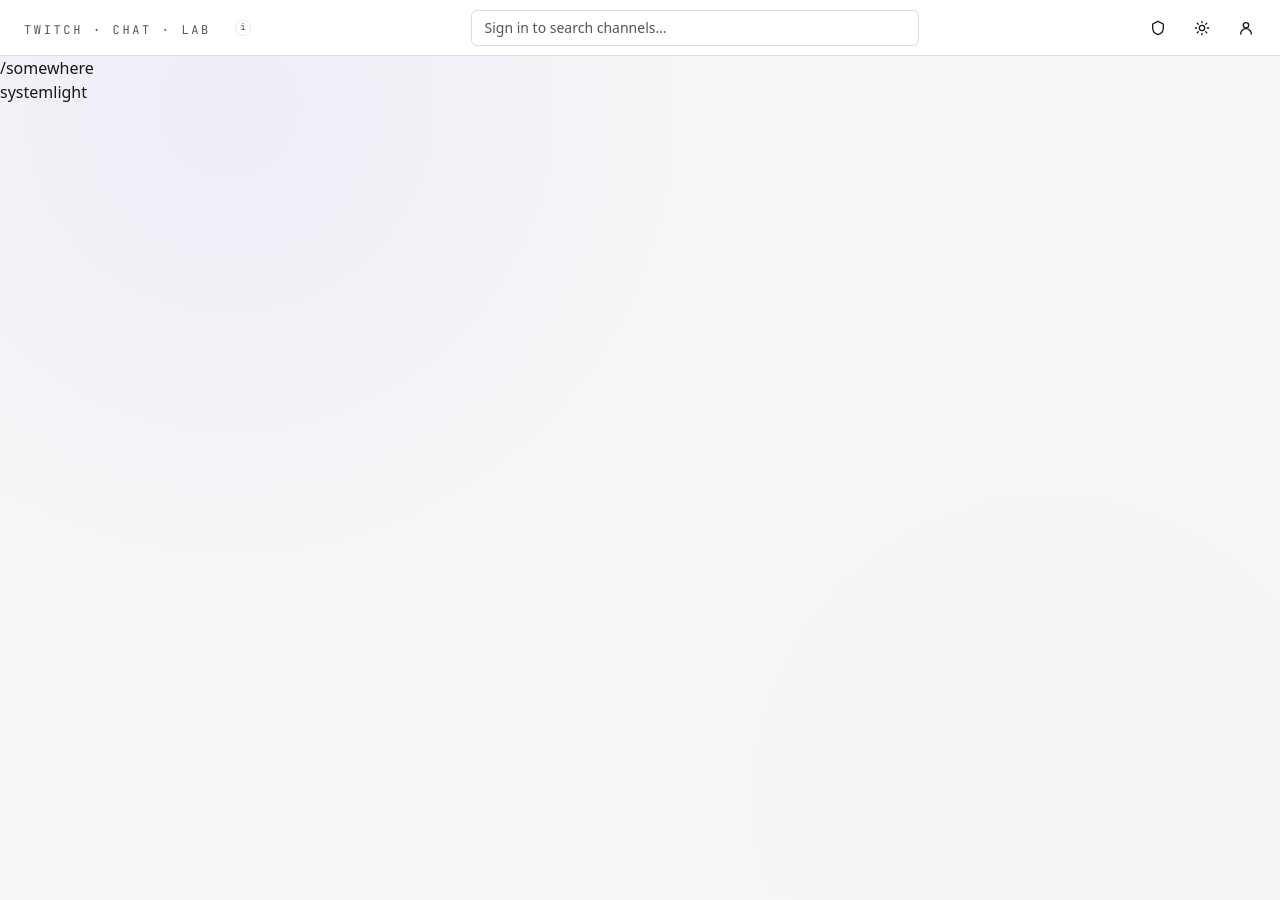
Test case: TopNav › toggle flips between dark and light based on resolved theme
Expected: the text with test id "theme" reads "system", [0,81,53,103]
Expected: the text with test id "resolved" reads "light", [53,81,87,103]
# First click flips to the opposite of resolved — dark.
Click the button named "theme". click: (1202, 28)
box: [1184,10,1220,46]
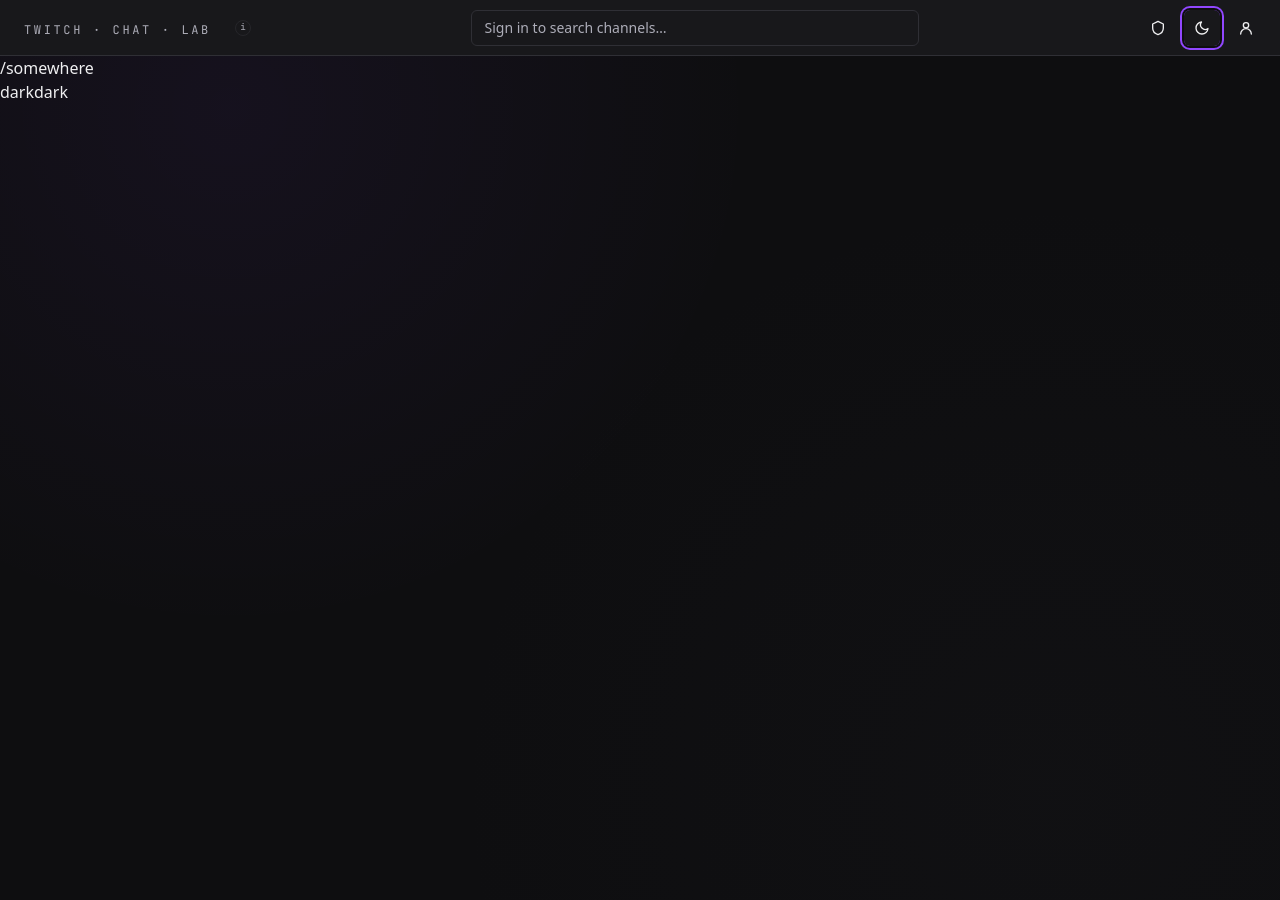
Result: the text with test id "theme" reads "dark" at [0,81,34,103]
Click the button named "theme". click: (1202, 28)
box: [1184,10,1220,46]
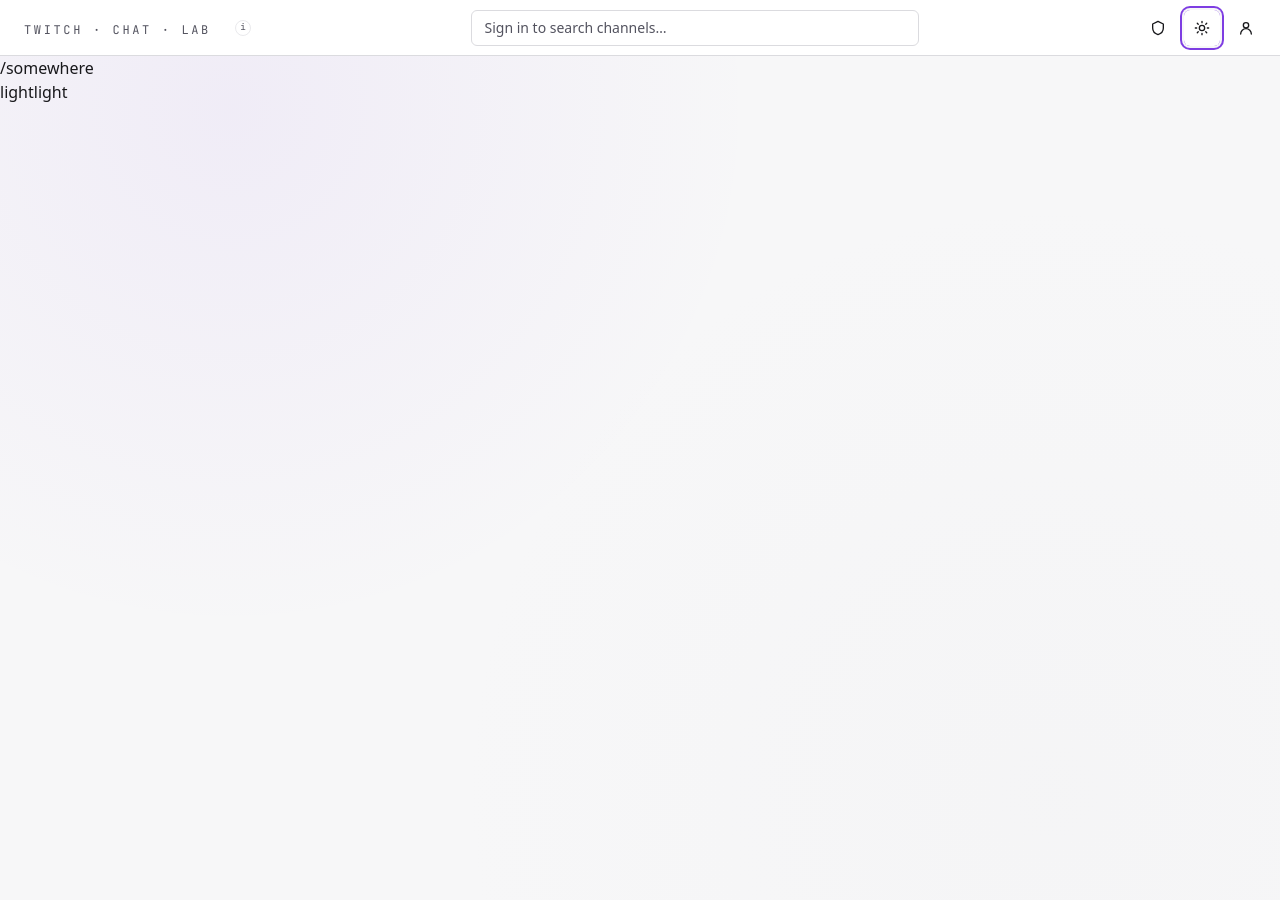
Result: the text with test id "theme" reads "light" at [0,81,34,103]
Click the button named "theme". click: (1202, 28)
box: [1184,10,1220,46]
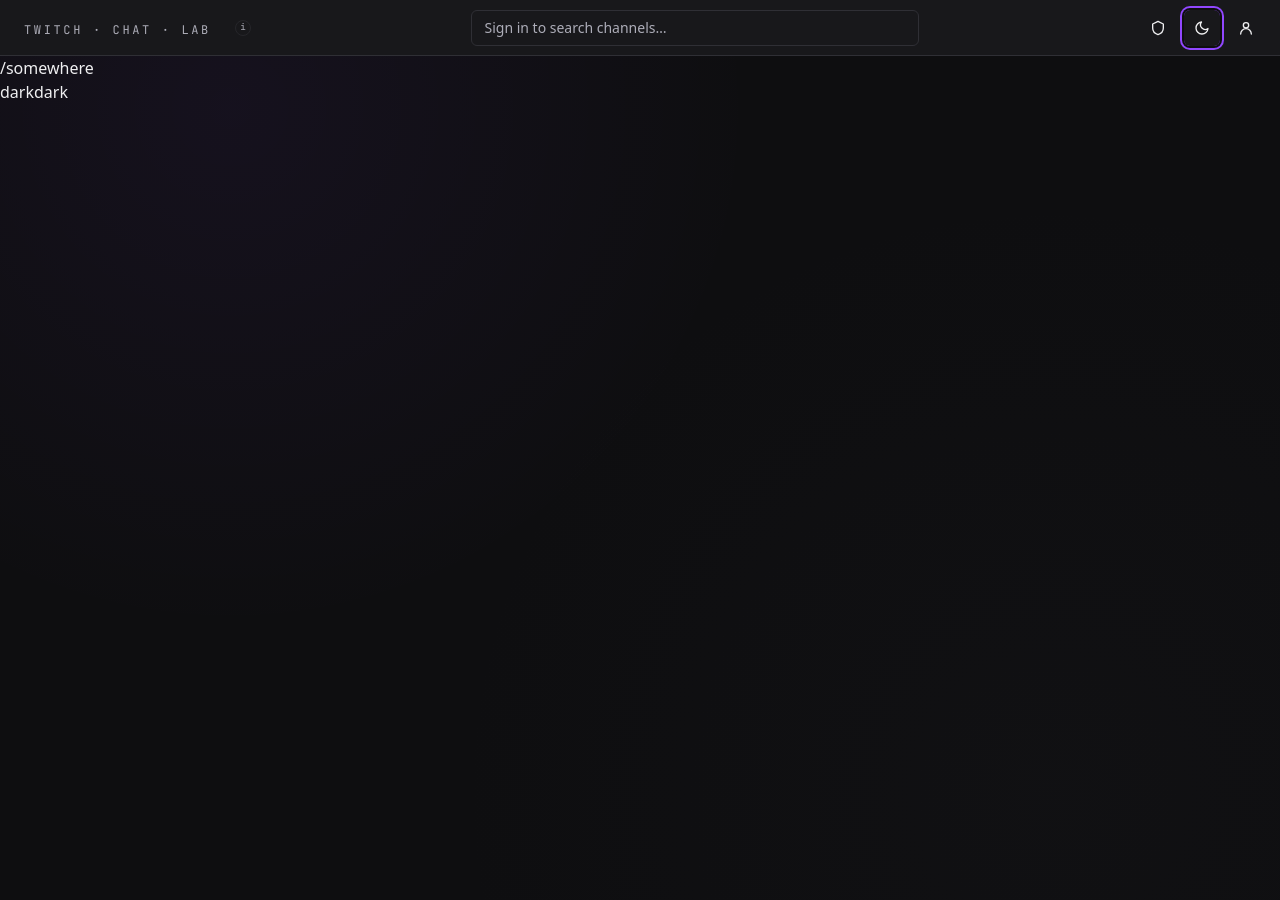
Result: the text with test id "theme" reads "dark" at [0,81,34,103]
